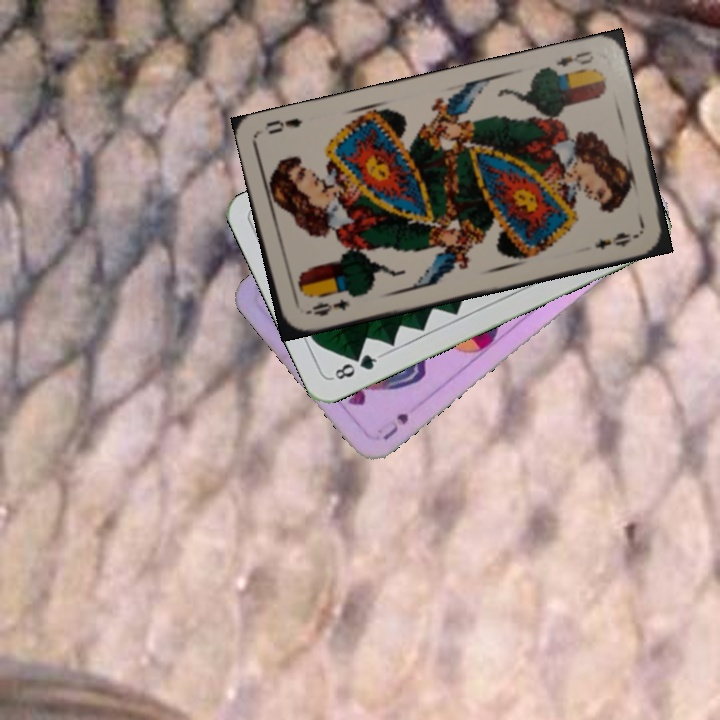EO: (301, 295, 353, 319), (552, 46, 596, 70)
G8: (328, 350, 384, 383)
SU: (372, 408, 415, 443)
